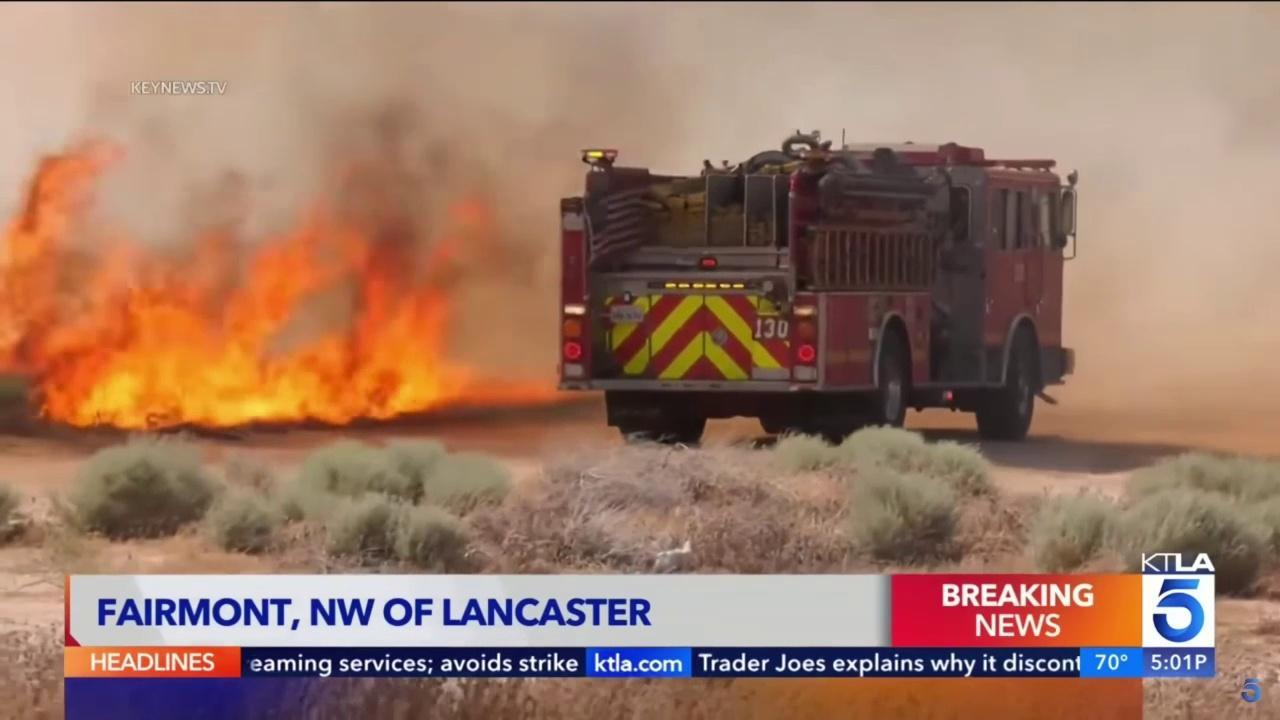fire: (0, 125, 558, 433)
smoke: (0, 0, 1280, 460)
